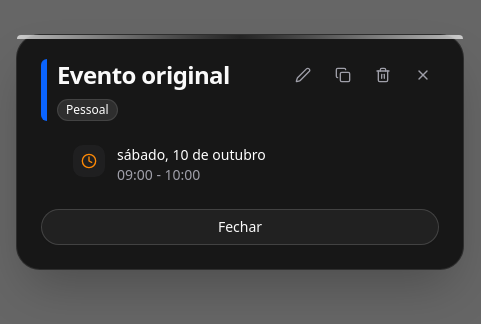
Scenario: keeps details open if duplication fails
Click the button titled "Duplicar evento": (343, 75) [327,59,359,91]
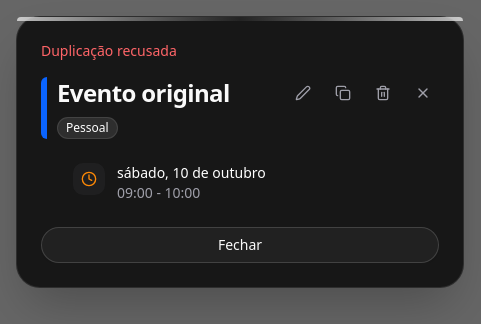
Now the message reads "Duplicação recusada", box [41,41,177,60]
